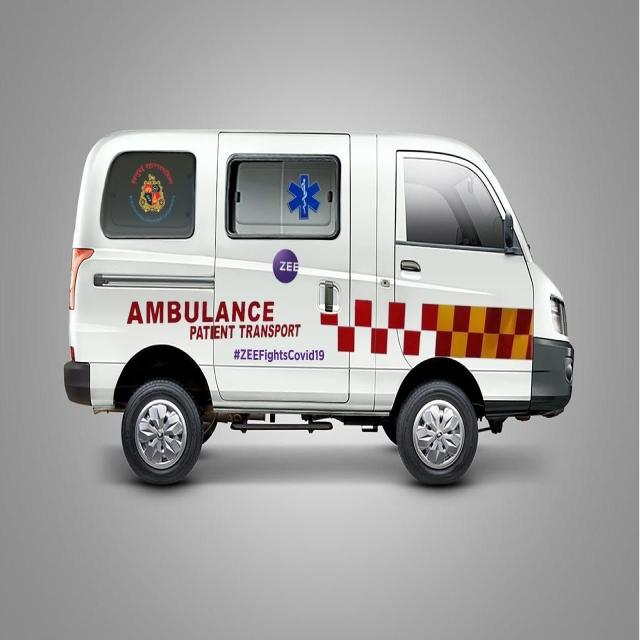ambulance: (49, 84, 573, 516)
